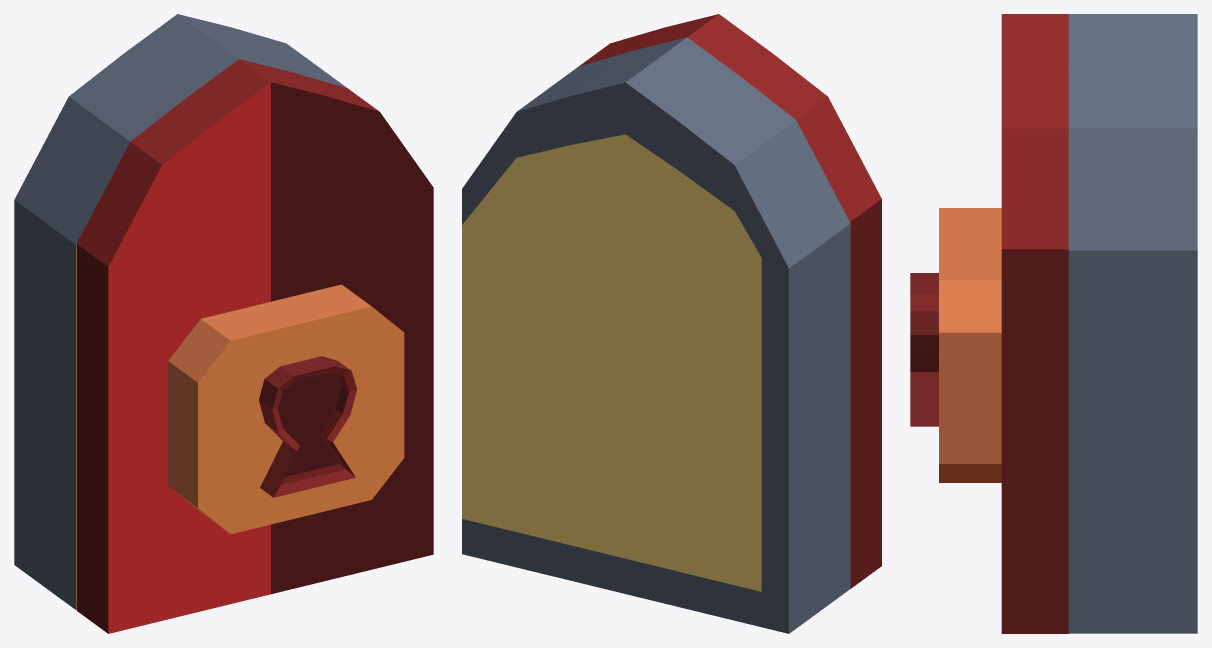
File: Porta câmara principal.fbx
The picture shows the model from 3 angles, left to right: view 1: azimuth 30°, elevation 25°; view 2: azimuth 150°, elevation 25°; view 3: azimuth 270°, elevation 25°; orthographic projection. The views are drawn at different scales.
Visible parts, largest first — view 1: Portal.003; view 2: Portal.003; view 3: Portal.003.
Boxes of the visible parts, bbox=[...] form: Portal.003: bbox=[14, 14, 433, 633]; Portal.003: bbox=[462, 14, 881, 633]; Portal.003: bbox=[910, 14, 1197, 633].
Bounding box in the file's own units: 1123 × 1682 × 816.
1 material, 1 textured.
